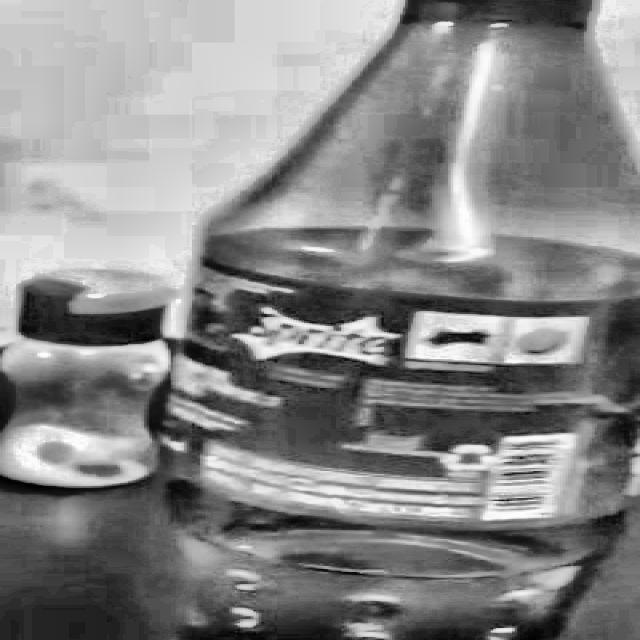bottle: (157, 0, 640, 640)
